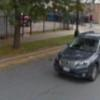cars: (54, 33, 100, 82)
